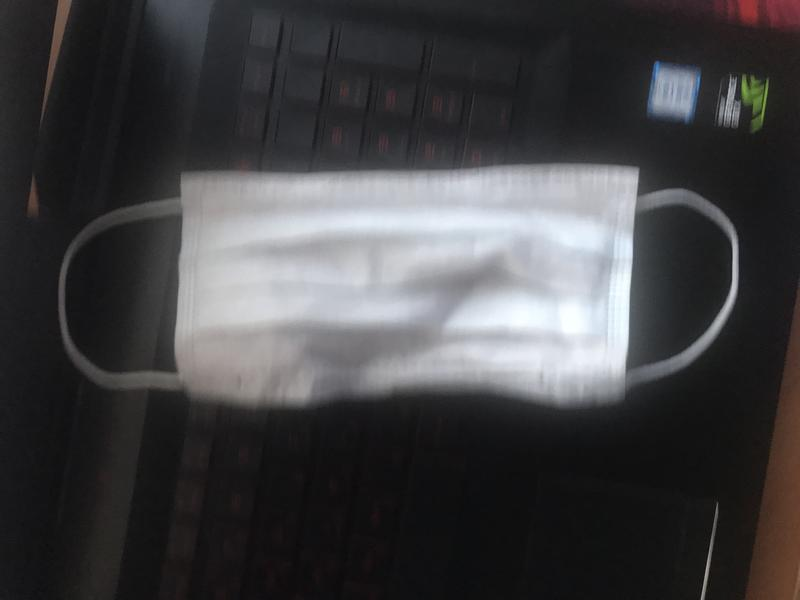medical_mask: (61, 164, 741, 409)
